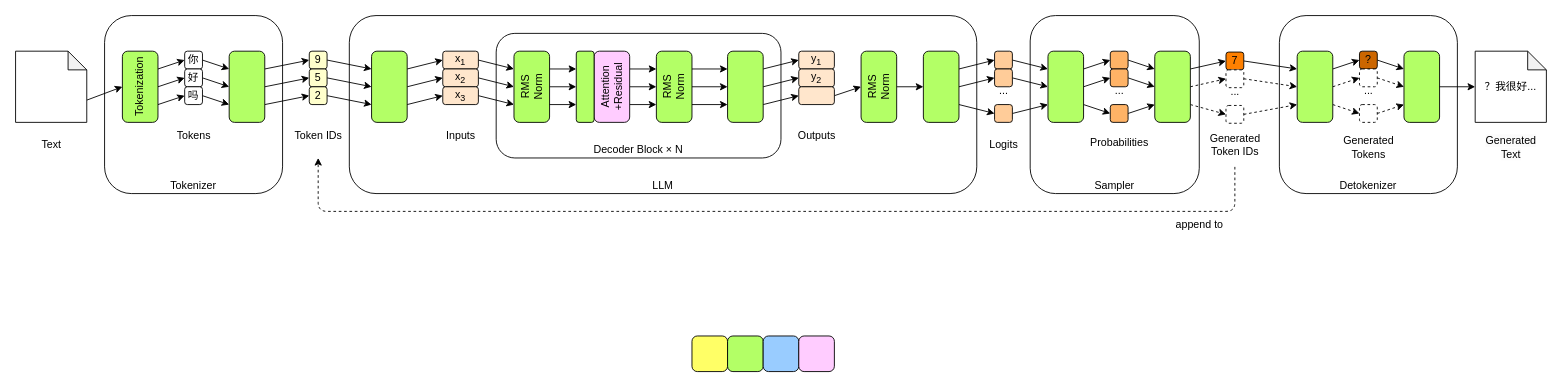
Image size: 1562x387. Some labels were removed from this diagram. The shapes that lost their labels are listed below. From the top down, each one's centre as x and y in pixels, then its label:
At point (51, 86): "你好吗".
At point (246, 86): "Token-to-ID Mapping".
At point (389, 86): "Embedding Layer".
At point (584, 86): "RoPE".
At point (745, 86): "FFN +Residual".
At point (816, 95): "y 3".
At point (940, 86): "Linear Projection".
At point (1065, 86): "Softmax".
At point (1172, 86): "Sampling".
At point (1314, 86): "ID-to-Token Mapping".
At point (1421, 86): "Detokenization".
